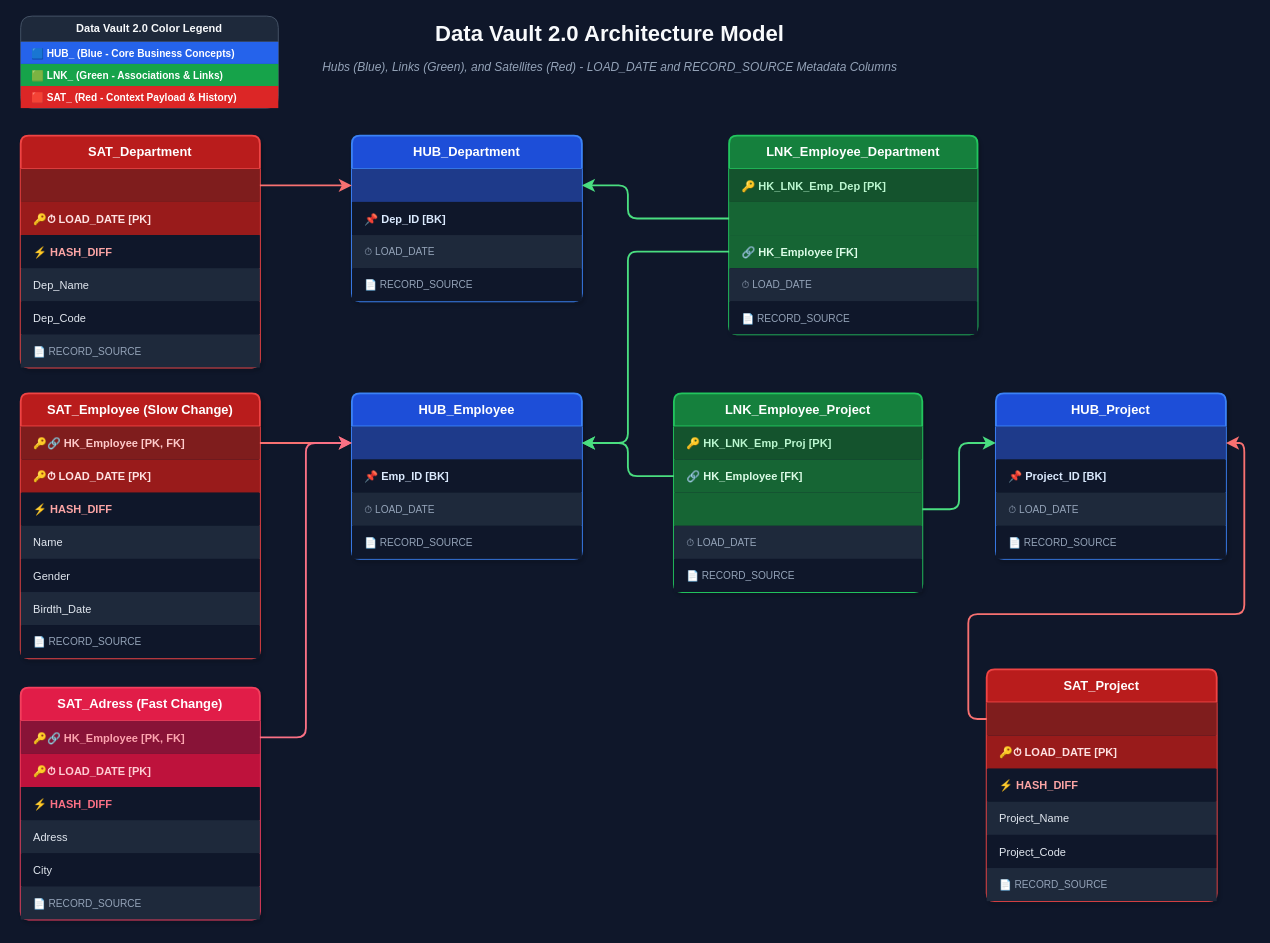
The diagram is 1270 pixels wide and 943 high, and some of its shapes have lost their labels. The shapes that lost their labels are listed below. From the top down, each one's centre as x and y in pixels, then its label:
At (x=139, y=184): "🔑🔗 HK_Department [PK, FK]".
At (x=466, y=184): "🔑 HK_Department [PK]".
At (x=853, y=218): "🔗 HK_Department [FK]".
At (x=466, y=442): "🔑 HK_Employee [PK]".
At (x=1110, y=442): "🔑 HK_Project [PK]".
At (x=797, y=508): "🔗 HK_Project [FK]".
At (x=1101, y=718): "🔑🔗 HK_Project [PK, FK]".
